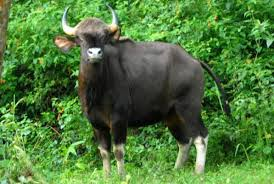bison: (54, 4, 230, 178)
